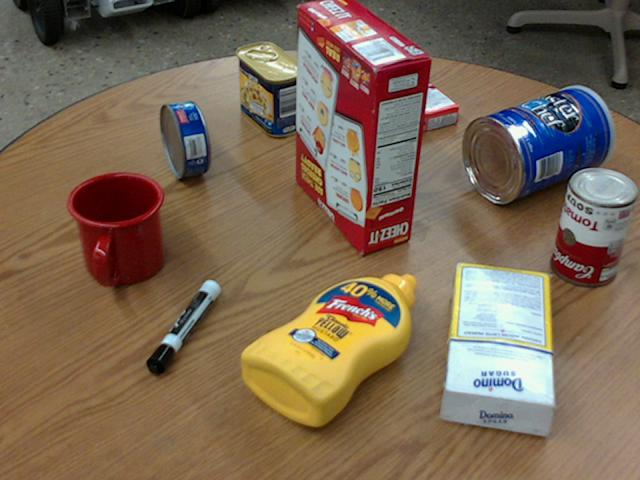cracker_box: (293, 0, 430, 252)
gelatin_box: (375, 77, 457, 134)
large_marker: (145, 279, 218, 373)
master_chef_can: (461, 85, 612, 202)
mug: (66, 172, 164, 287)
mustard_bottle: (240, 273, 416, 427)
potted_meat_can: (234, 42, 305, 136)
sugar_box: (441, 262, 556, 434)
tomato_soup_can: (549, 165, 635, 283)
tuna_fish_can: (160, 101, 208, 178)
